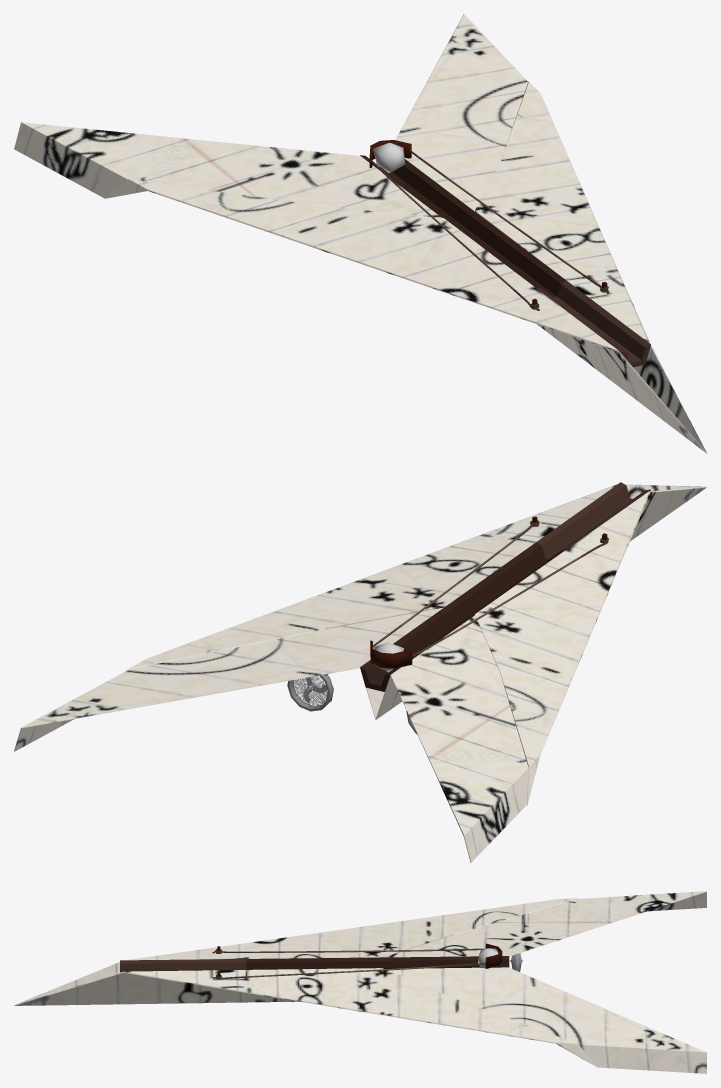
File: Avion.fbx
3 renders of one model, top to bottom at view 1: azimuth 30°, elevation 25°; view 2: azimuth 150°, elevation 25°; view 3: azimuth 270°, elevation 25°, orthographic. The views are drawn at different scales.
Visible parts, largest first — view 1: Plane.002, Cylinder, BezierCurve, Icosphere; view 2: Plane.002, Cylinder, Cube.003, BezierCurve, SoporteLapiz; view 3: Plane.002, Cylinder, BezierCurve.
Boxes of the visible parts, left/top/right/bottom form: Plane.002: left=14, top=14, right=706, bottom=453; Cylinder: left=360, top=155, right=650, bottom=367; BezierCurve: left=370, top=150, right=608, bottom=310; Icosphere: left=373, top=143, right=405, bottom=172; Plane.002: left=14, top=484, right=706, bottom=862; Cylinder: left=360, top=482, right=650, bottom=691; Cube.003: left=287, top=674, right=333, bottom=711; BezierCurve: left=373, top=520, right=608, bottom=656; SoporteLapiz: left=370, top=640, right=412, bottom=668; Plane.002: left=14, top=891, right=706, bottom=1073; Cylinder: left=120, top=956, right=509, bottom=972; BezierCurve: left=212, top=948, right=485, bottom=979.
Bounding box in the file's own units: 522 × 84.99 × 917.
Materials: 8 (7 with a texture image).
